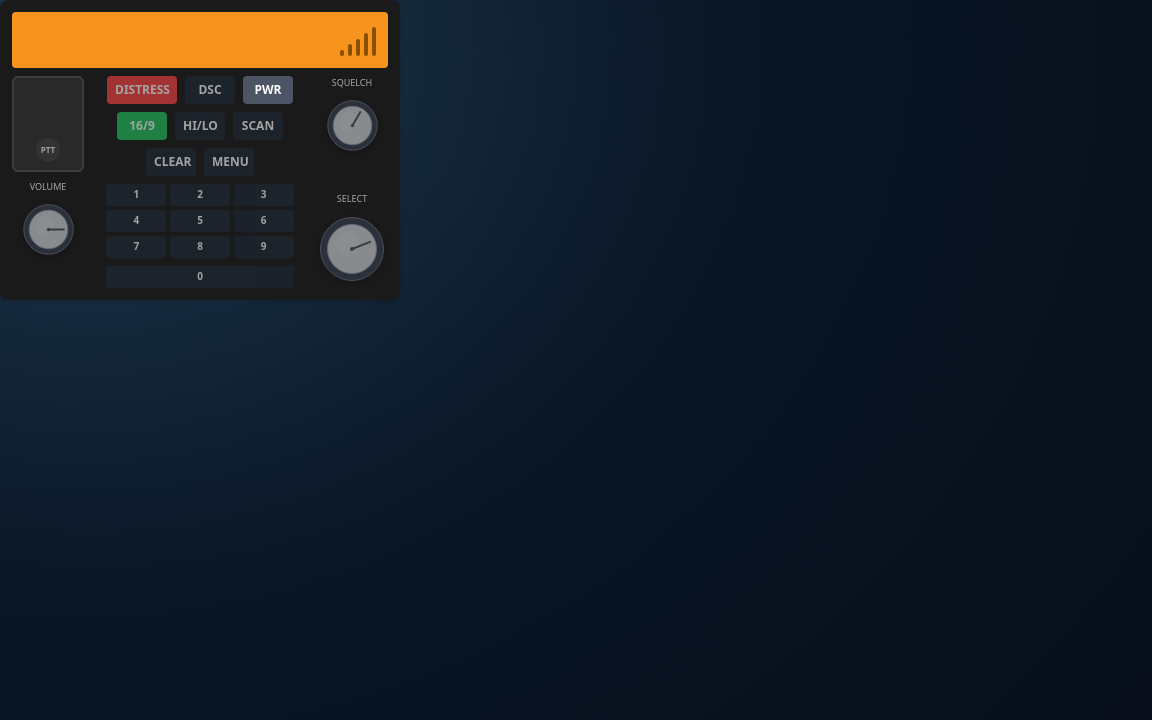
MarineRadio › powers on and shows the default channel
Step 1. Click the button "PWR" → (268,90), box [243,76,293,104]
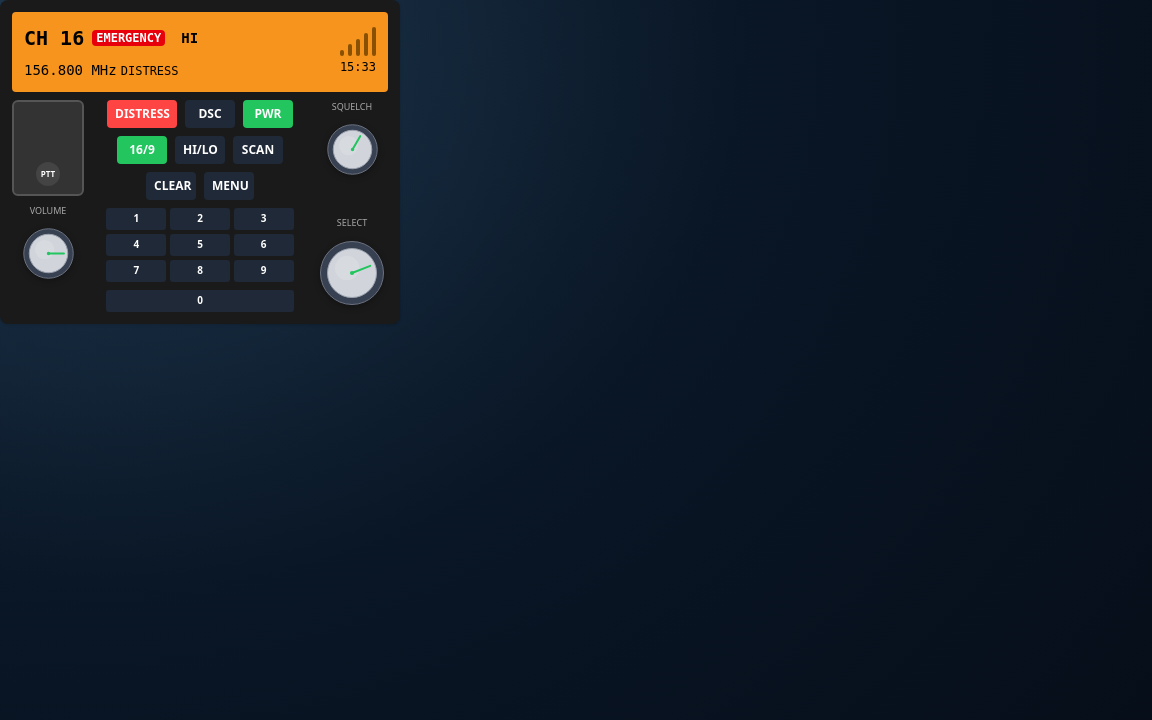
Expected: the text "CH 16 EMERGENCY HI" is shown, [24,24,198,52]
